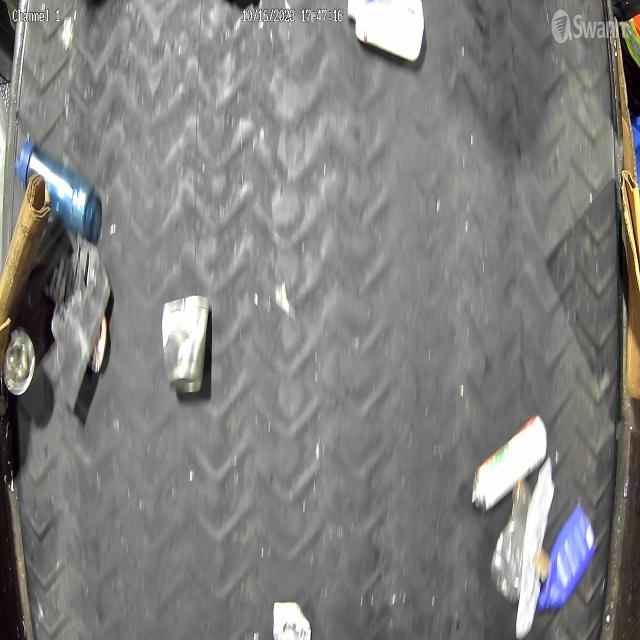can: (472, 414, 548, 509), (162, 295, 210, 395)
milk_jug: (347, 0, 425, 63)
non_white_jug: (536, 502, 598, 612)
plastic_bottle: (14, 138, 95, 235), (490, 478, 532, 602)
